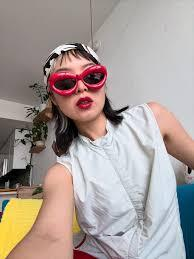sunglasses: (45, 63, 115, 96)
